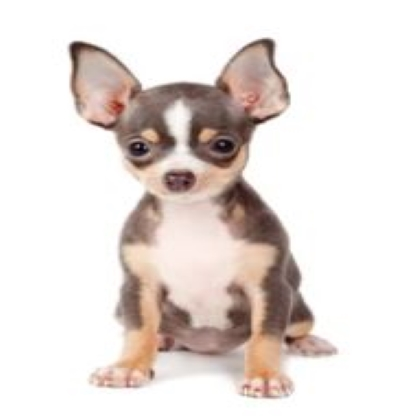chihuahua: (64, 33, 338, 396)
